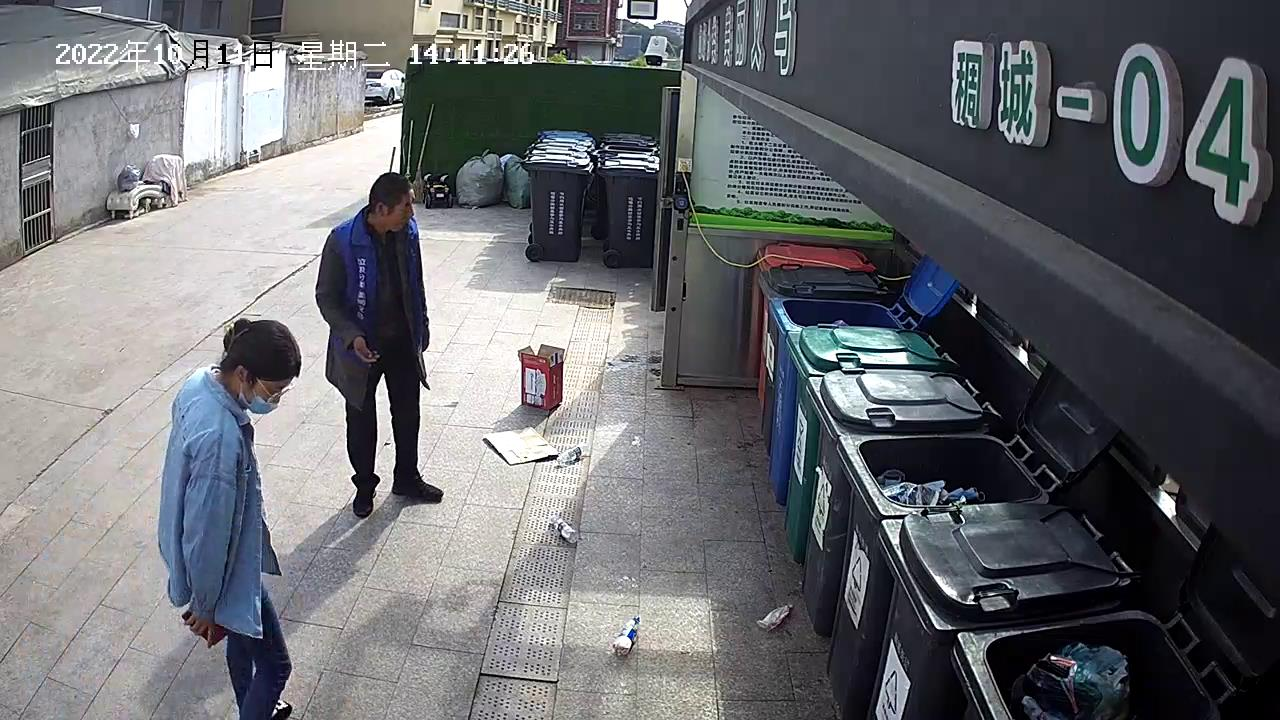suliaozhipin: (611, 613, 642, 655), (546, 511, 581, 546), (755, 601, 795, 631), (554, 441, 593, 468)
worker: (150, 316, 304, 720), (311, 170, 445, 519)
zhizhipin: (515, 342, 568, 410), (481, 422, 560, 467)
